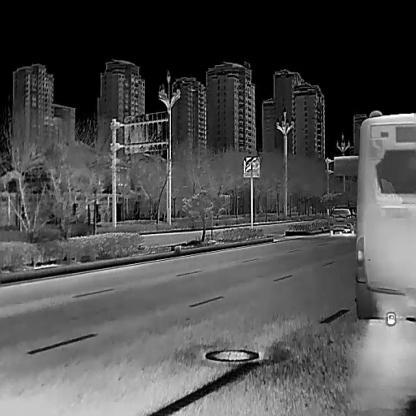car: (354, 108, 416, 326), (327, 205, 357, 235)
